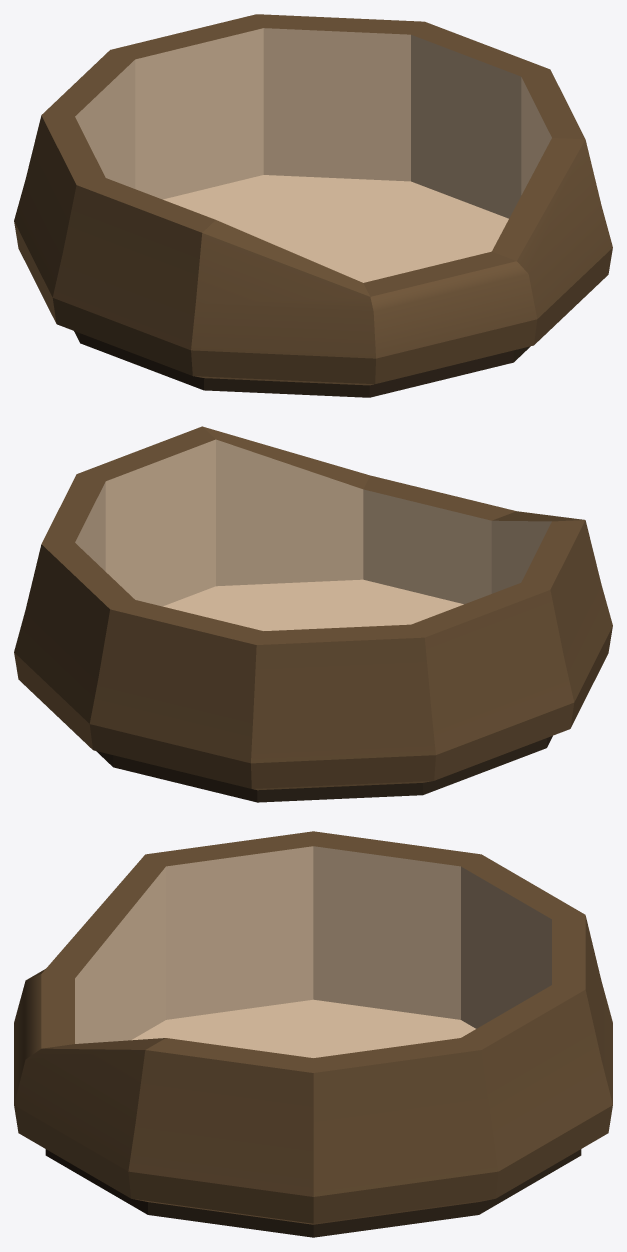
Rendered from CatBed.fbx.
3 views of the same model, one above another, from view 1: azimuth 30°, elevation 25°; view 2: azimuth 150°, elevation 25°; view 3: azimuth 270°, elevation 25° (orthographic). The views are drawn at different scales.
Parts seen in each view (by area): view 1: CatBed; view 2: CatBed; view 3: CatBed.
Boxes of the visible parts, left/top/right/bottom form: CatBed: left=14, top=14, right=612, bottom=397; CatBed: left=14, top=426, right=612, bottom=802; CatBed: left=14, top=831, right=612, bottom=1237.
Bounding box in the file's own units: 1.16 × 0.3396 × 1.11.
Materials: 1 (1 with a texture image).
